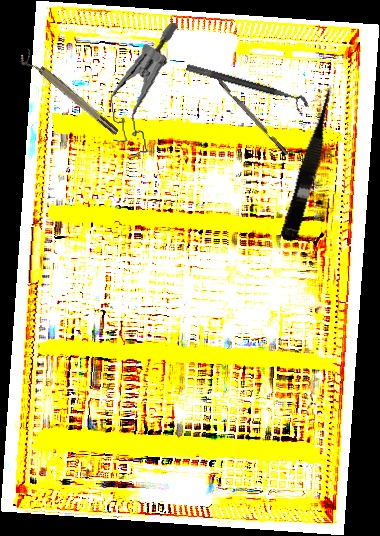Chopper: (203, 66, 289, 160)
Fixation Ring: (17, 48, 121, 141), (182, 62, 311, 117)
Micro Scissor: (279, 80, 345, 245)
Speculum: (100, 22, 192, 161)
